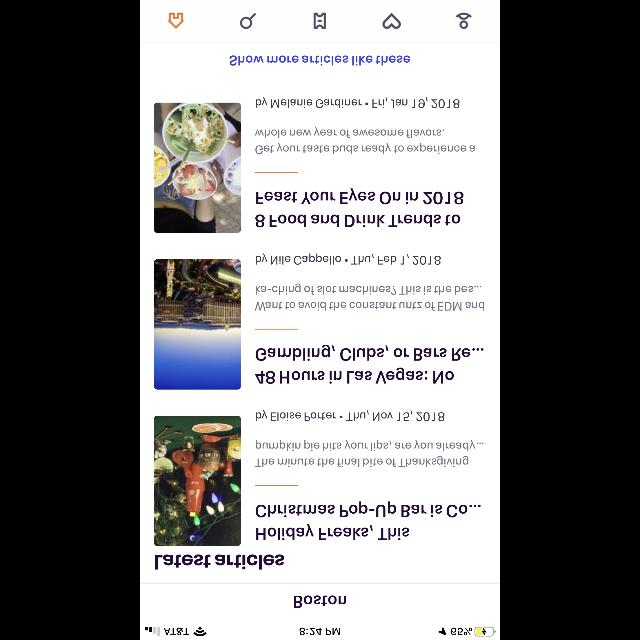icon: (383, 12, 401, 30), (168, 12, 184, 30), (456, 12, 472, 30), (240, 13, 256, 29), (314, 12, 326, 30)
image: (154, 102, 242, 234), (154, 258, 242, 389), (154, 416, 242, 546)
text: (255, 344, 483, 384), (255, 502, 480, 540), (255, 188, 463, 228), (255, 439, 483, 467), (255, 284, 485, 310), (255, 128, 475, 154), (256, 96, 460, 108), (255, 253, 440, 265), (256, 411, 444, 422), (156, 554, 284, 570), (230, 55, 410, 65), (294, 594, 346, 608)
uppertaskbar: (140, 626, 500, 640)
